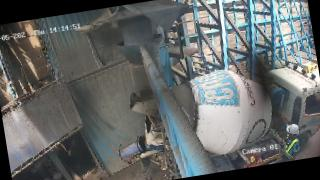cement_mixer_truck: (131, 63, 320, 180)
swing_chute: (118, 34, 170, 99)
